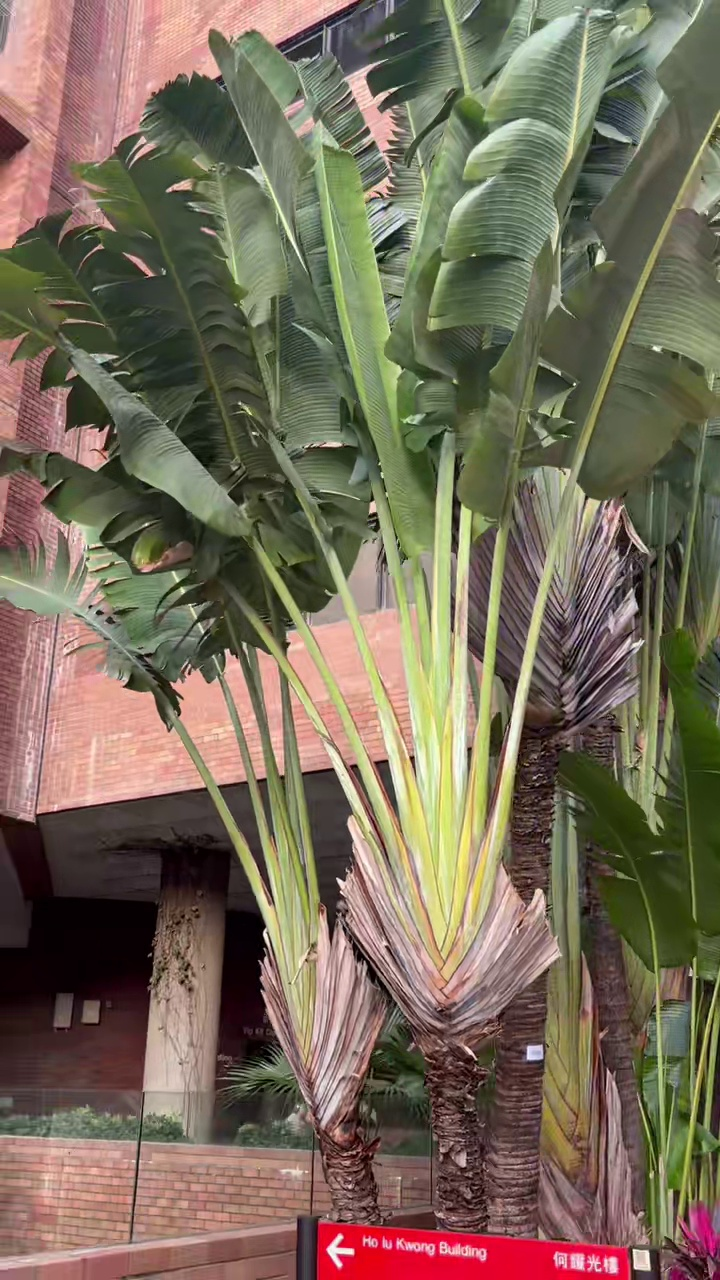Travellers-tree: (0, 11, 618, 1222)
